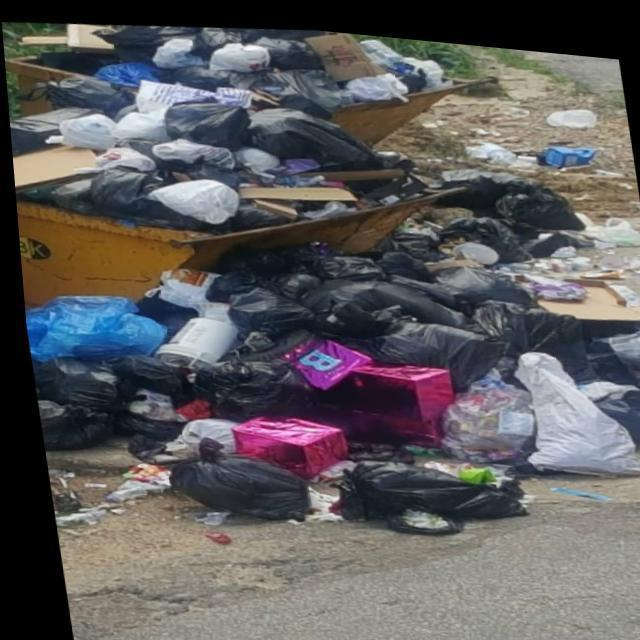Garbage: (8, 22, 640, 526)
Plastic_Bag: (508, 342, 640, 461), (310, 356, 448, 437), (163, 435, 300, 514), (333, 453, 518, 511), (357, 313, 501, 381), (20, 295, 160, 360), (468, 290, 581, 364), (434, 368, 529, 453), (248, 102, 380, 163), (84, 164, 210, 226), (437, 162, 579, 217), (296, 273, 460, 318), (190, 355, 307, 417), (225, 411, 339, 473), (384, 257, 530, 302), (212, 235, 336, 274), (27, 356, 115, 410), (149, 313, 232, 366), (224, 282, 309, 333), (437, 207, 528, 252), (492, 173, 581, 218), (162, 98, 249, 144), (133, 76, 254, 109), (31, 75, 133, 114), (144, 176, 235, 219), (30, 399, 107, 448), (98, 22, 197, 59), (271, 62, 351, 105), (87, 164, 159, 210), (142, 266, 214, 309), (105, 352, 178, 391), (589, 377, 640, 431), (315, 295, 383, 331), (149, 135, 231, 164), (253, 31, 322, 63), (57, 111, 114, 149), (72, 145, 153, 171), (170, 414, 231, 448), (202, 266, 266, 298), (109, 105, 165, 137), (343, 65, 407, 93), (208, 38, 269, 66), (373, 243, 429, 273), (93, 59, 158, 84), (226, 198, 286, 225), (520, 263, 582, 289), (152, 34, 203, 65), (191, 23, 240, 55), (603, 316, 640, 358), (314, 249, 378, 272), (171, 62, 230, 86), (185, 159, 239, 184), (230, 142, 278, 168), (272, 268, 316, 293), (387, 54, 426, 82), (197, 23, 242, 43), (293, 343, 335, 364)
Plastic_bottle: (359, 31, 403, 60)
Thermocol: (20, 22, 113, 49)
